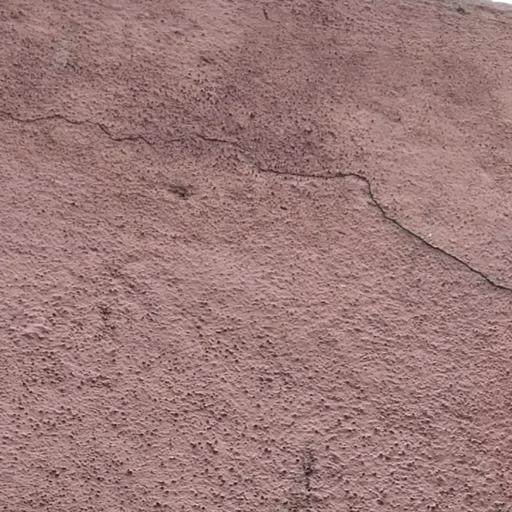minor_crack: (9, 86, 512, 308)
